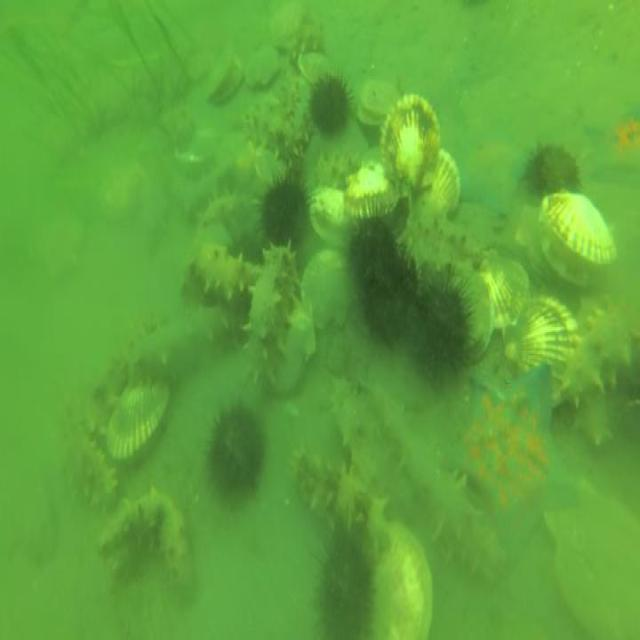echinus: (313, 502, 377, 640), (406, 270, 473, 381), (206, 394, 268, 504), (360, 237, 419, 348), (257, 170, 309, 247), (344, 207, 394, 286), (524, 136, 582, 204), (308, 70, 353, 142)
holothurian: (365, 381, 504, 578), (95, 487, 200, 610), (327, 372, 413, 516), (285, 444, 391, 556), (86, 307, 166, 439), (114, 300, 234, 386), (558, 296, 635, 414), (240, 243, 301, 389), (58, 389, 120, 507), (400, 204, 482, 291), (190, 238, 262, 304), (242, 96, 306, 169), (135, 103, 197, 155), (154, 160, 199, 221), (141, 161, 167, 266), (199, 178, 250, 228), (311, 147, 357, 191), (287, 19, 325, 68)
scallop: (546, 479, 640, 640), (504, 291, 582, 406), (538, 188, 618, 291), (372, 518, 439, 640), (378, 90, 443, 196), (105, 379, 173, 465), (474, 246, 532, 334), (298, 246, 354, 334), (95, 150, 155, 231), (276, 289, 318, 403), (457, 270, 496, 365), (418, 149, 463, 218), (308, 188, 352, 253), (204, 41, 243, 112), (345, 162, 390, 220), (175, 126, 221, 174), (242, 41, 282, 95), (266, 0, 308, 49), (354, 74, 389, 131), (296, 46, 336, 87)
starfish: (443, 354, 585, 547), (450, 123, 530, 221), (581, 98, 640, 191)
